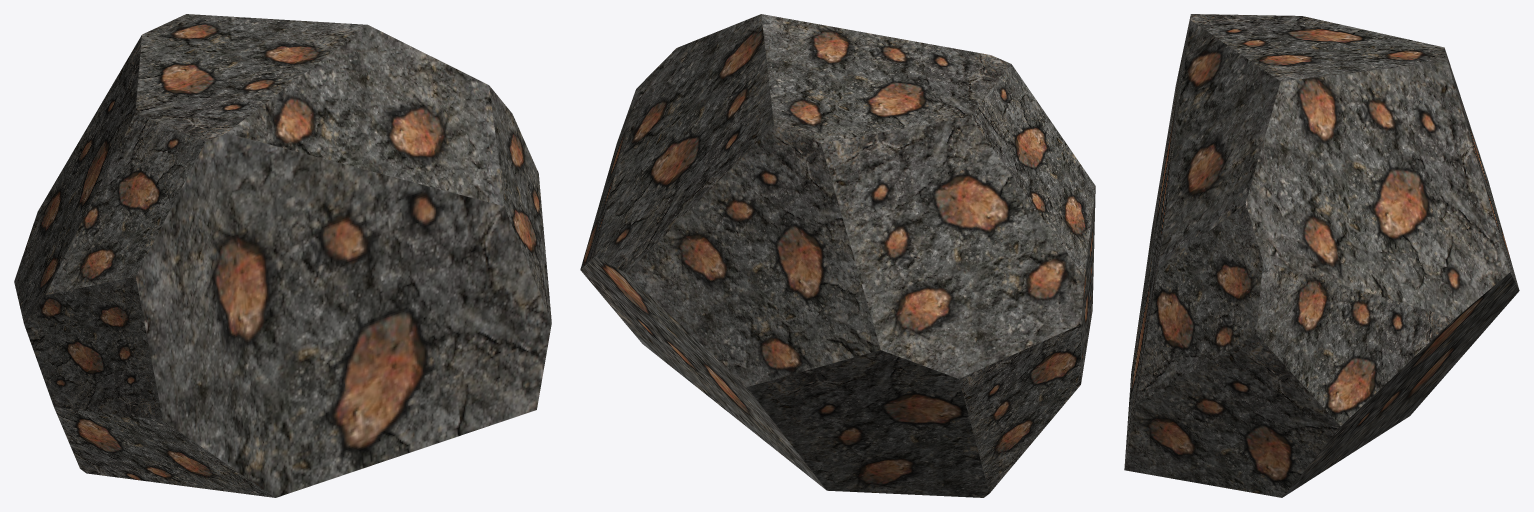
The model's file is iron_ore_1.fbx.
3 views of the same model, side by side, from view 1: azimuth 30°, elevation 25°; view 2: azimuth 150°, elevation 25°; view 3: azimuth 270°, elevation 25° (orthographic).
Visible parts, largest first — view 1: Rock_Type2_01_mesh; view 2: Rock_Type2_01_mesh; view 3: Rock_Type2_01_mesh.
Boxes of the visible parts, x1,y1,x2,y2 form: Rock_Type2_01_mesh: (14,14,551,497); Rock_Type2_01_mesh: (580,14,1095,497); Rock_Type2_01_mesh: (1124,14,1519,497).
Size of the model in its own units: 1.59 by 1.26 by 1.12.
